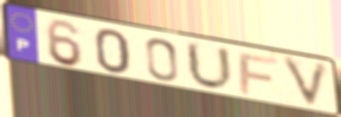0: (93, 27, 133, 75), (143, 37, 181, 83)
6: (44, 17, 85, 69)
F: (237, 52, 281, 97)
U: (183, 39, 236, 93)
V: (280, 55, 334, 112)
